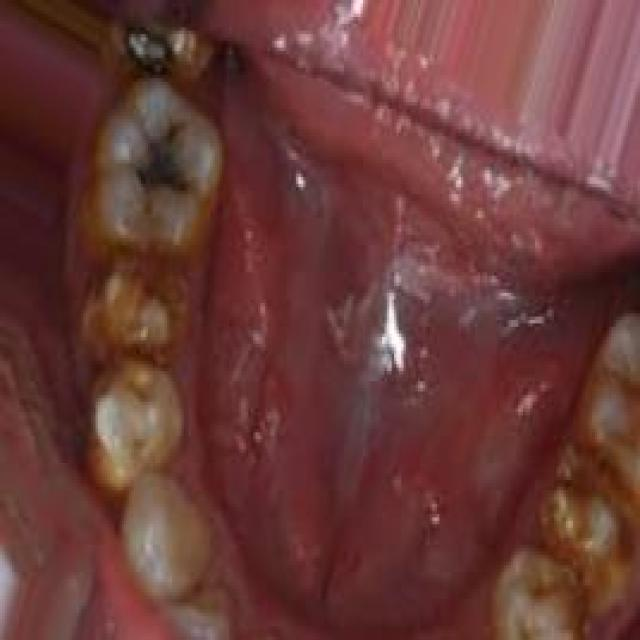caries: (109, 93, 205, 228)
